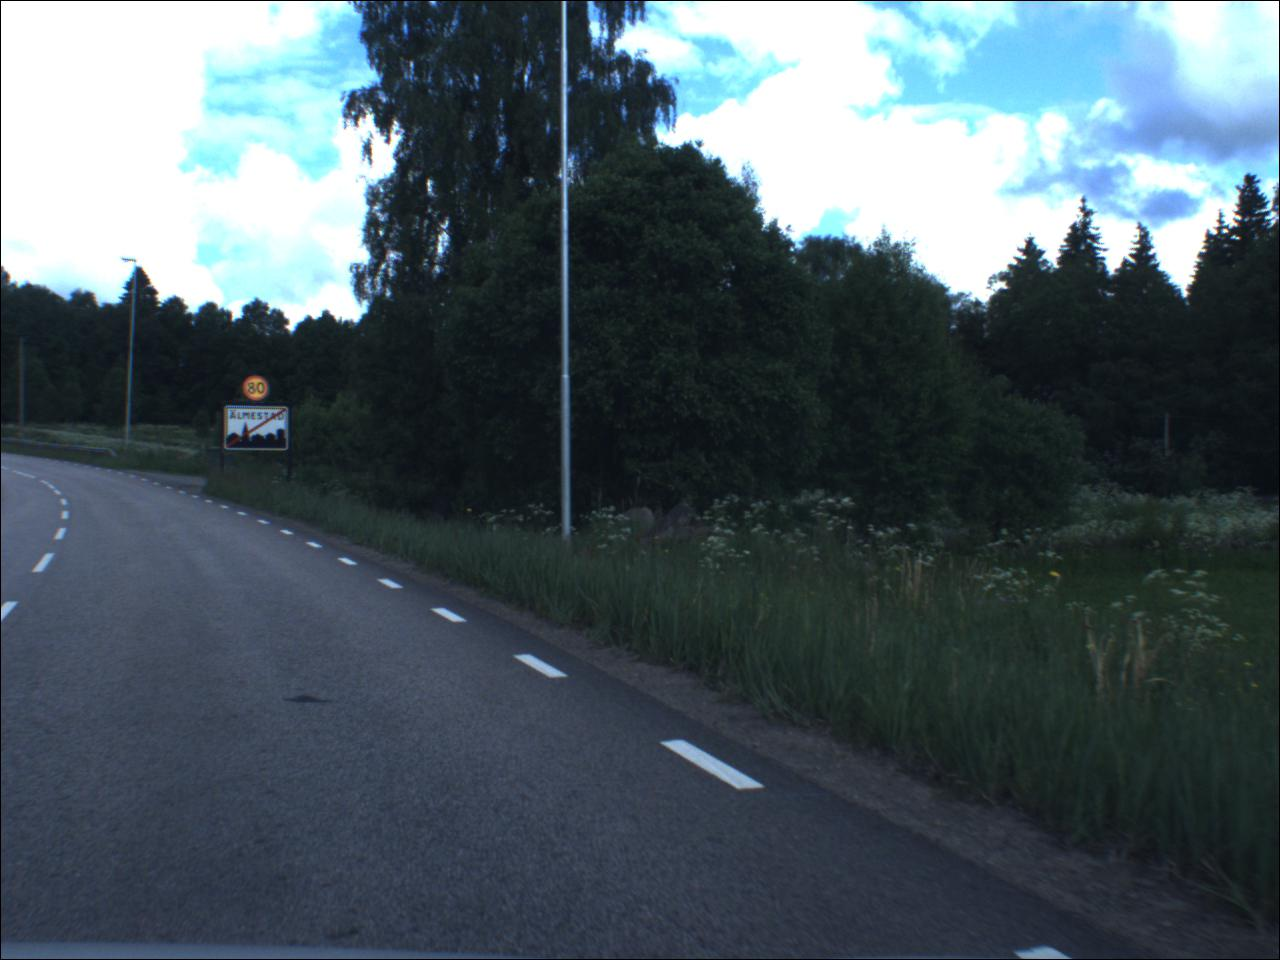80_SIGN: (243, 375, 275, 408)
